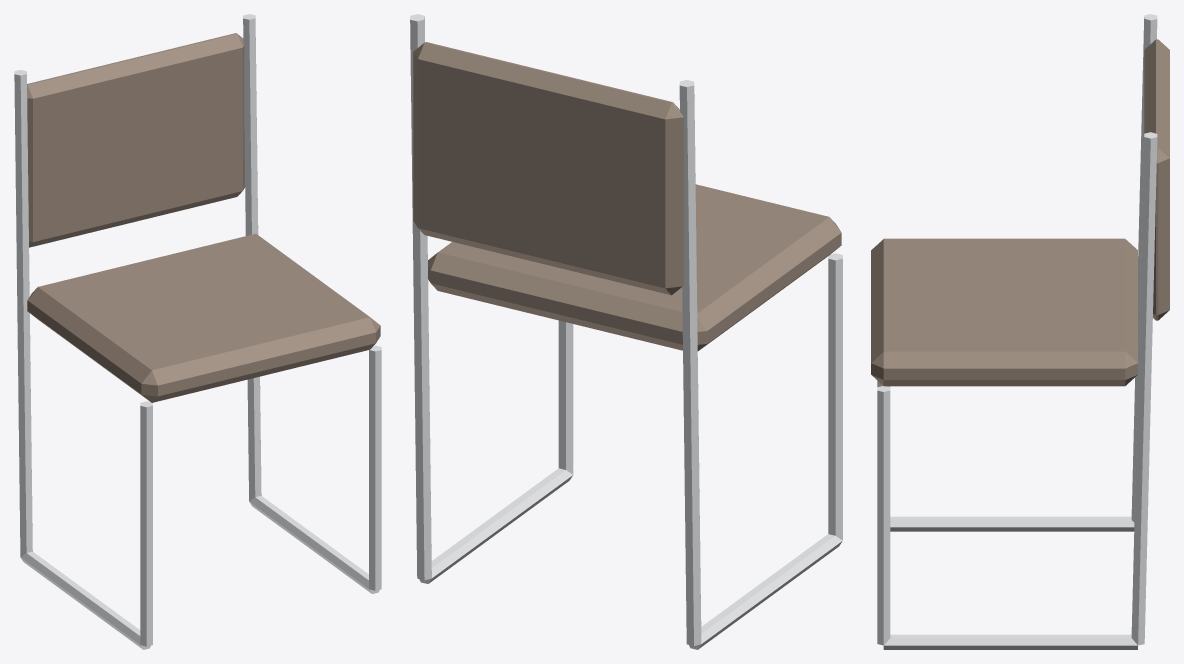
File: guest_chair.glb
3 views of the same model, side by side, from view 1: azimuth 30°, elevation 25°; view 2: azimuth 150°, elevation 25°; view 3: azimuth 270°, elevation 25° (orthographic). The views are drawn at different scales.
Parts seen in each view (by area): view 1: guest_chair_vinyl, guest_chair_chrome; view 2: guest_chair_vinyl, guest_chair_chrome; view 3: guest_chair_vinyl, guest_chair_chrome.
Boxes of the visible parts, x1,y1,x2,y2 form: guest_chair_vinyl: (27,33,380,402); guest_chair_chrome: (14,14,381,649); guest_chair_vinyl: (413,42,841,351); guest_chair_chrome: (410,14,842,649); guest_chair_vinyl: (871,39,1169,386); guest_chair_chrome: (877,14,1157,649).
Size of the model in its own units: 0.464 by 0.8906 by 0.47.
